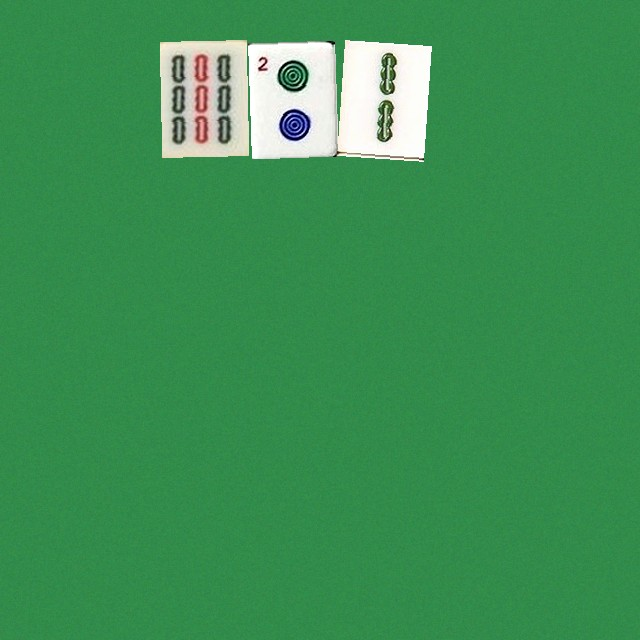tile: (159, 40, 246, 156), (248, 40, 335, 156), (337, 40, 424, 156)
